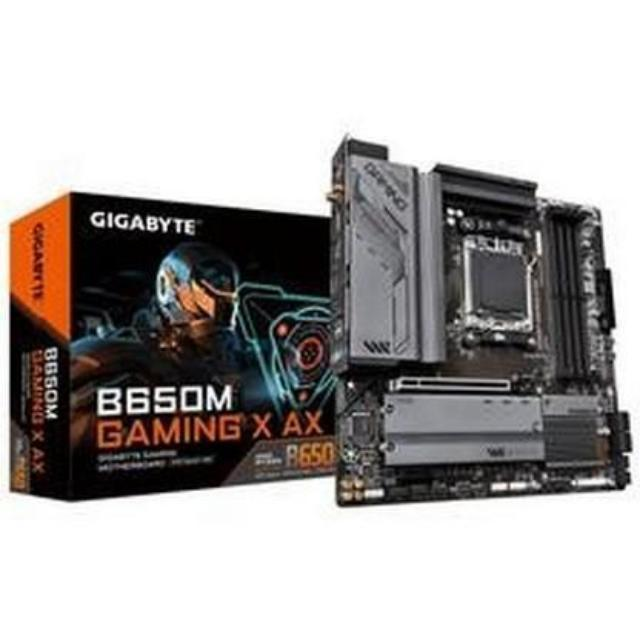Mainboard: (325, 130, 640, 516)
